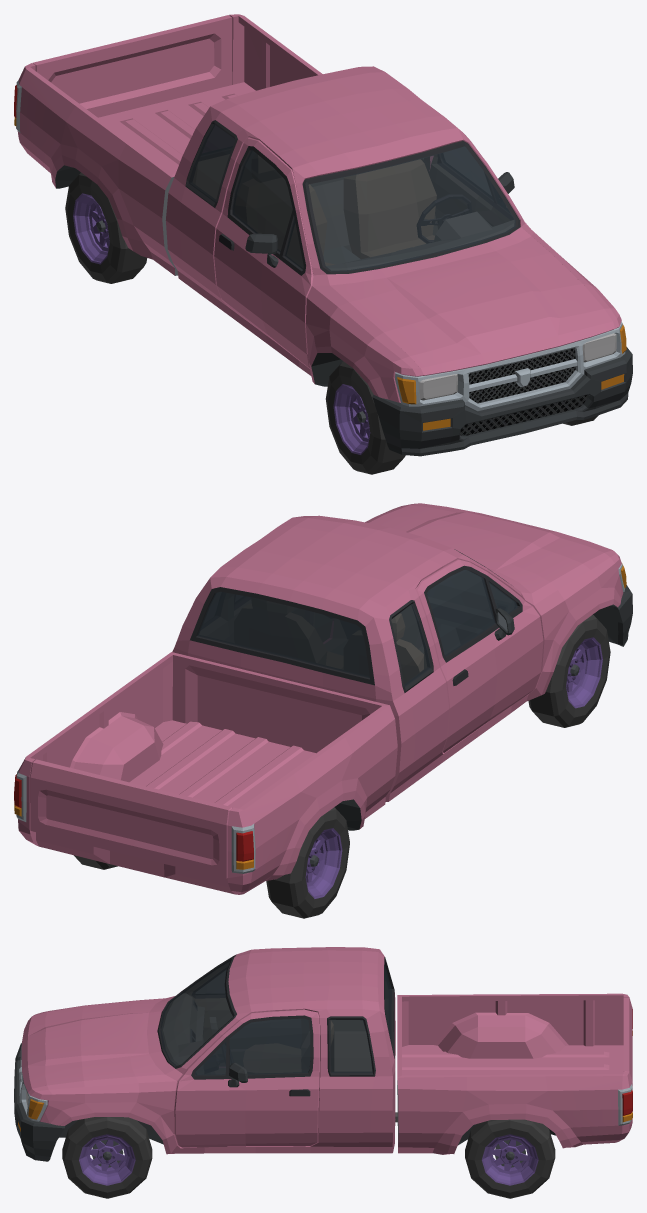
File: redline_street_ute.glb
The picture shows the model from 3 angles, top to bottom: view 1: azimuth 30°, elevation 25°; view 2: azimuth 150°, elevation 25°; view 3: azimuth 270°, elevation 25°; orthographic projection. The views are drawn at different scales.
Parts seen in each view (by area): view 1: Body, Hood, Glass, Door_R, Wheel_RR, Wheel_FR, Door_L; view 2: Body, Door_R, Glass, Hood, Wheel_FR, Wheel_RR, Door_L; view 3: Body, Door_L, Hood, Glass, Wheel_FL, Wheel_RL, Door_R.
Boxes of the visible parts, left/top/right/bottom form: Body: left=14, top=14, right=632, bottom=456; Hood: left=327, top=227, right=614, bottom=375; Glass: left=188, top=124, right=515, bottom=271; Door_R: left=214, top=137, right=313, bottom=368; Wheel_RR: left=65, top=172, right=147, bottom=283; Wheel_FR: left=325, top=361, right=405, bottom=474; Door_L: left=429, top=116, right=530, bottom=235; Body: left=14, top=503, right=632, bottom=894; Door_R: left=415, top=559, right=543, bottom=753; Glass: left=197, top=591, right=430, bottom=686; Hood: left=368, top=503, right=612, bottom=593; Wheel_FR: left=528, top=615, right=610, bottom=727; Wheel_RR: left=266, top=807, right=349, bottom=918; Door_L: left=234, top=595, right=331, bottom=641; Body: left=14, top=947, right=632, bottom=1161; Door_L: left=174, top=1009, right=319, bottom=1147; Hood: left=21, top=996, right=174, bottom=1092; Glass: left=160, top=959, right=391, bottom=1072; Wheel_FL: left=62, top=1117, right=152, bottom=1198; Wheel_RL: left=465, top=1119, right=555, bottom=1198; Door_R: left=188, top=966, right=301, bottom=1065.
Bounding box in the file's own units: 1.69 × 1.44 × 4.4.
4 materials, 2 textured.
